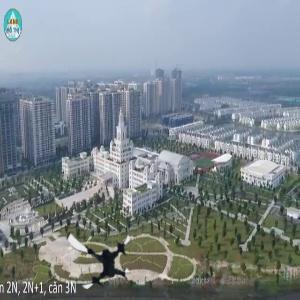drone: (62, 217, 141, 296)
